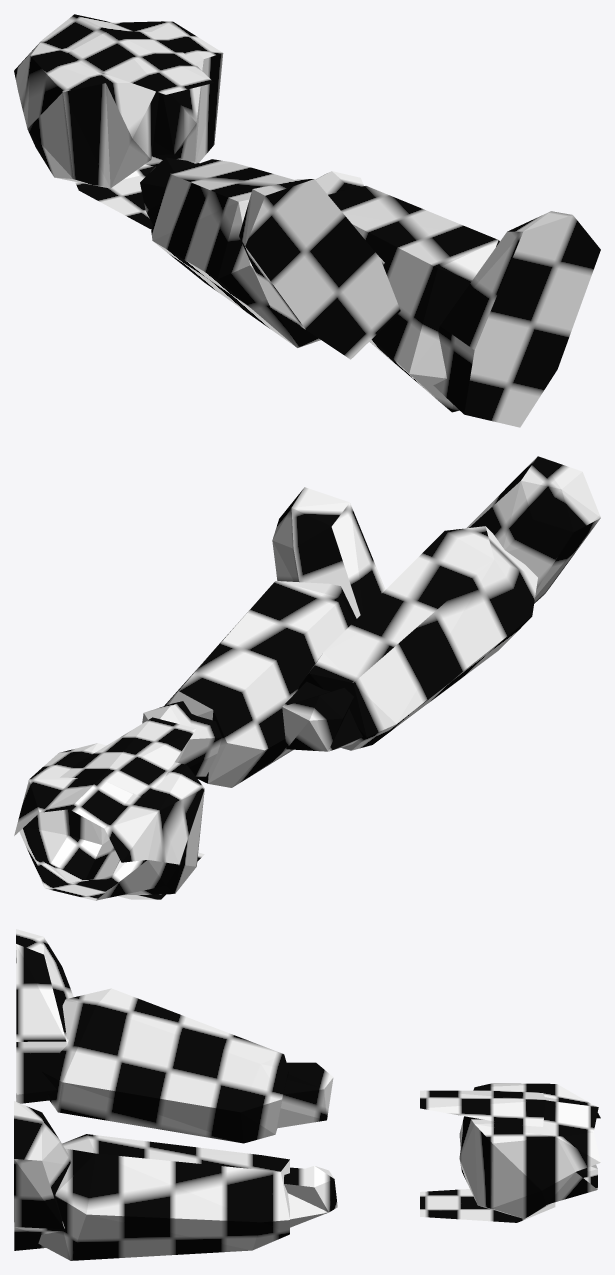
Rendered from initarlg4.dae.
3 views of the same model, one above another, from view 1: azimuth 30°, elevation 25°; view 2: azimuth 150°, elevation 25°; view 3: azimuth 270°, elevation 25° (orthographic). The views are drawn at different scales.
Parts seen in each view (by area): view 1: armor; view 2: armor; view 3: armor.
Part boxes in pixels (x1,y1,x2,y2): armor: (14,14,600,427); armor: (14,456,600,900); armor: (14,929,600,1260).
Bounding box in the file's own units: 0.8915 × 1.66 × 0.7248.
1 material, 1 textured.
